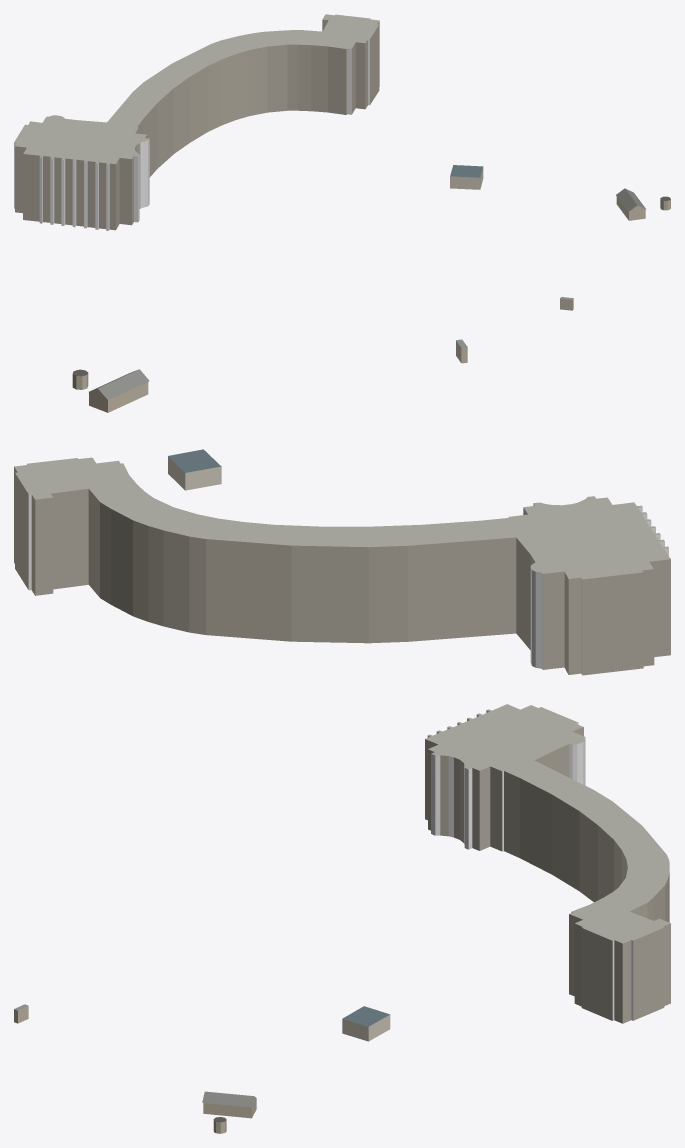
3 views of the same model, one above another, from view 1: azimuth 30°, elevation 25°; view 2: azimuth 150°, elevation 25°; view 3: azimuth 270°, elevation 25° (orthographic). The views are drawn at different scales.
Parts seen in each view (by area): view 1: tuile; view 2: tuile; view 3: tuile.
Part boxes in pixels (x1,y1,x2,y2): tuile: [14, 14, 670, 310]; tuile: [14, 339, 670, 675]; tuile: [14, 704, 670, 1133].
Bounding box in the file's own units: 285 × 49.26 × 252.
